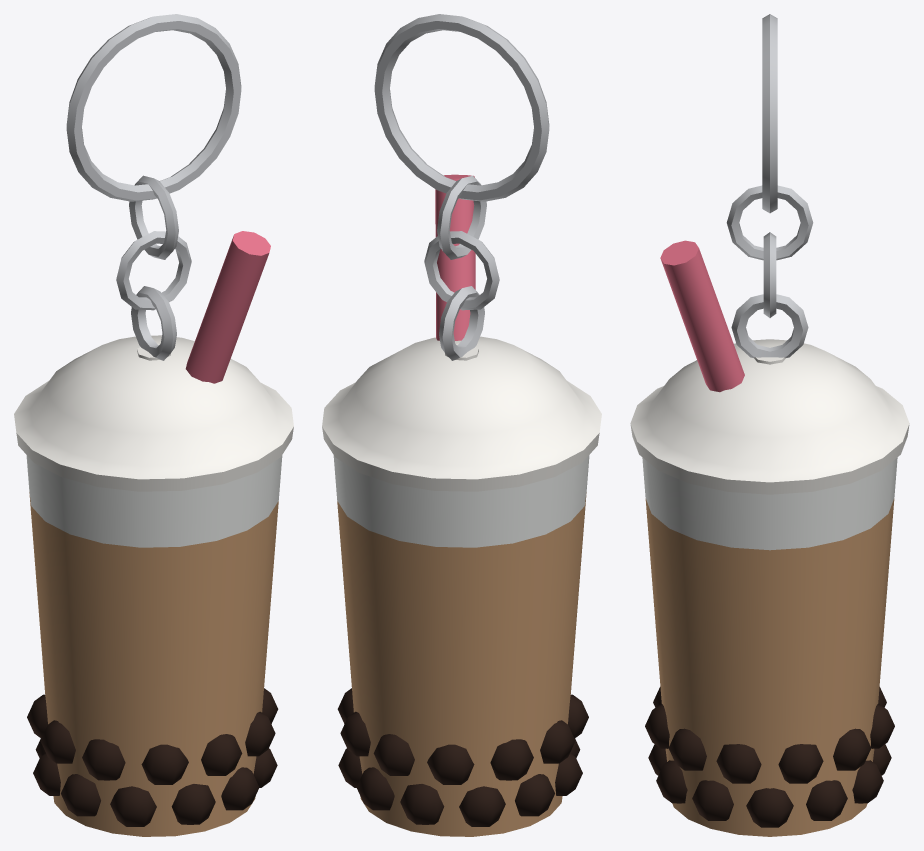
The model's file is keychain_milktea.glb.
3 views of the same model, side by side, from view 1: azimuth 30°, elevation 25°; view 2: azimuth 150°, elevation 25°; view 3: azimuth 270°, elevation 25° (orthographic).
Parts seen in each view (by area): view 1: kc_tea, kc_lid, kc_metal, kc_pearl, kc_clear, kc_straw; view 2: kc_tea, kc_lid, kc_metal, kc_pearl, kc_clear, kc_straw; view 3: kc_tea, kc_lid, kc_pearl, kc_clear, kc_metal, kc_straw.
Part boxes in pixels (bbox=[...]): kc_tea: bbox=[29, 492, 278, 836]; kc_lid: bbox=[14, 335, 293, 491]; kc_metal: bbox=[66, 14, 241, 360]; kc_pearl: bbox=[27, 688, 278, 826]; kc_clear: bbox=[26, 455, 282, 547]; kc_straw: bbox=[185, 231, 270, 383]; kc_tea: bbox=[337, 492, 586, 836]; kc_lid: bbox=[322, 336, 601, 491]; kc_metal: bbox=[374, 14, 549, 360]; kc_pearl: bbox=[337, 688, 588, 826]; kc_clear: bbox=[333, 455, 589, 547]; kc_straw: bbox=[435, 174, 475, 340]; kc_tea: bbox=[645, 498, 894, 836]; kc_lid: bbox=[630, 339, 909, 494]; kc_pearl: bbox=[645, 687, 894, 827]; kc_clear: bbox=[642, 457, 897, 550]; kc_metal: bbox=[726, 14, 813, 357]; kc_straw: bbox=[660, 240, 744, 392].
Size of the model in its own units: 0.029 by 0.0884 by 0.029.
